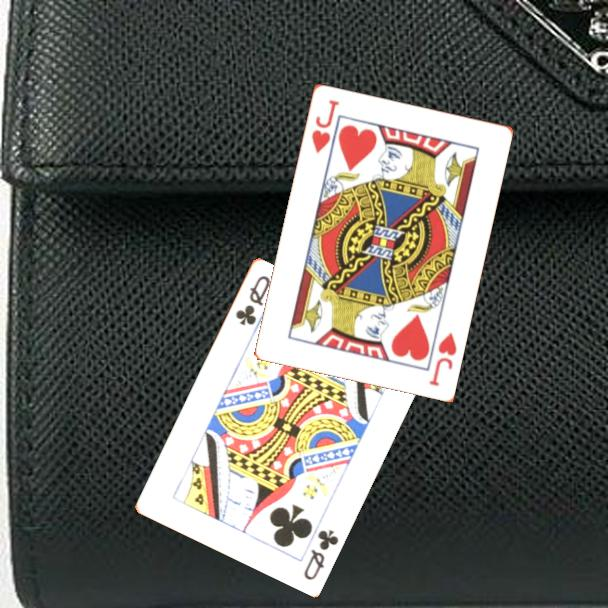c12: (231, 271, 273, 328), (300, 525, 341, 583)
h11: (308, 96, 342, 156), (425, 329, 459, 389)
